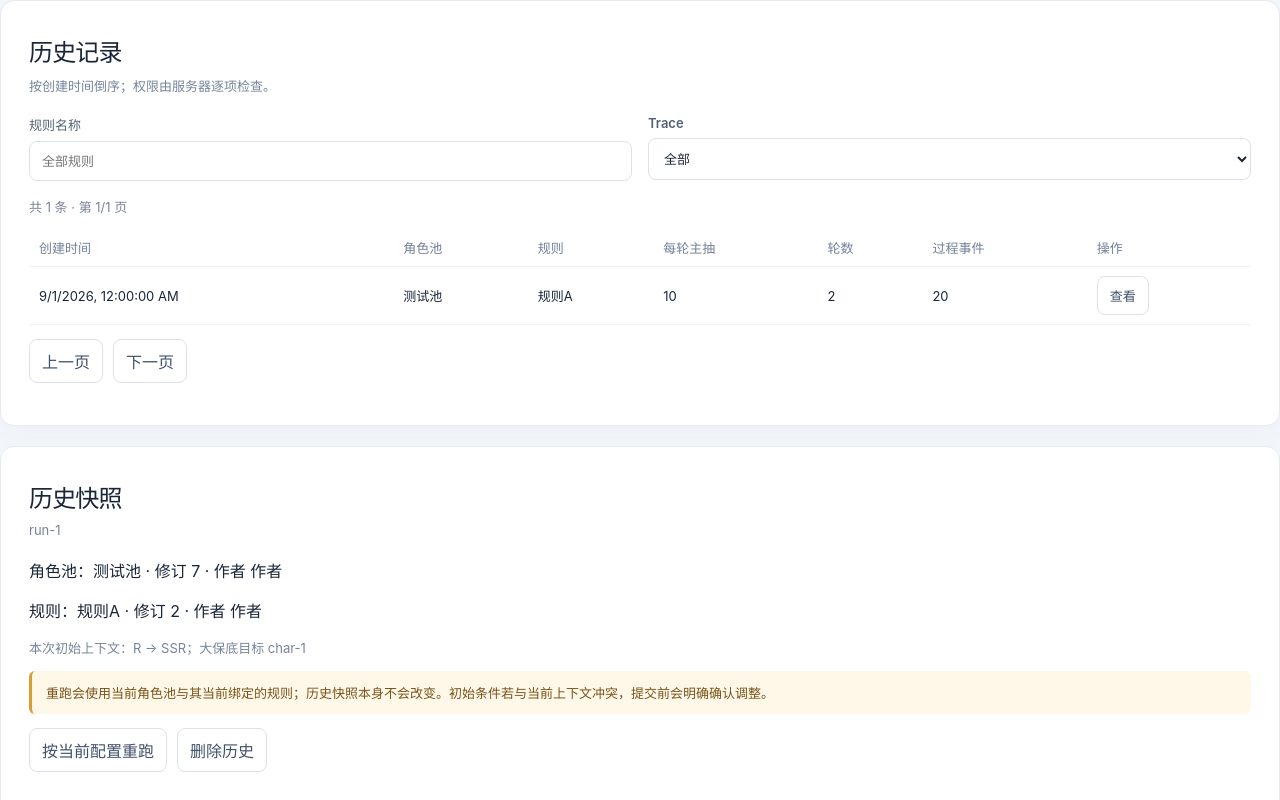
Test: does not delete history before separate confirmation
Click the button "删除历史" at {"x": 222, "y": 750}, box [177,728,267,772]
(page scrolled)
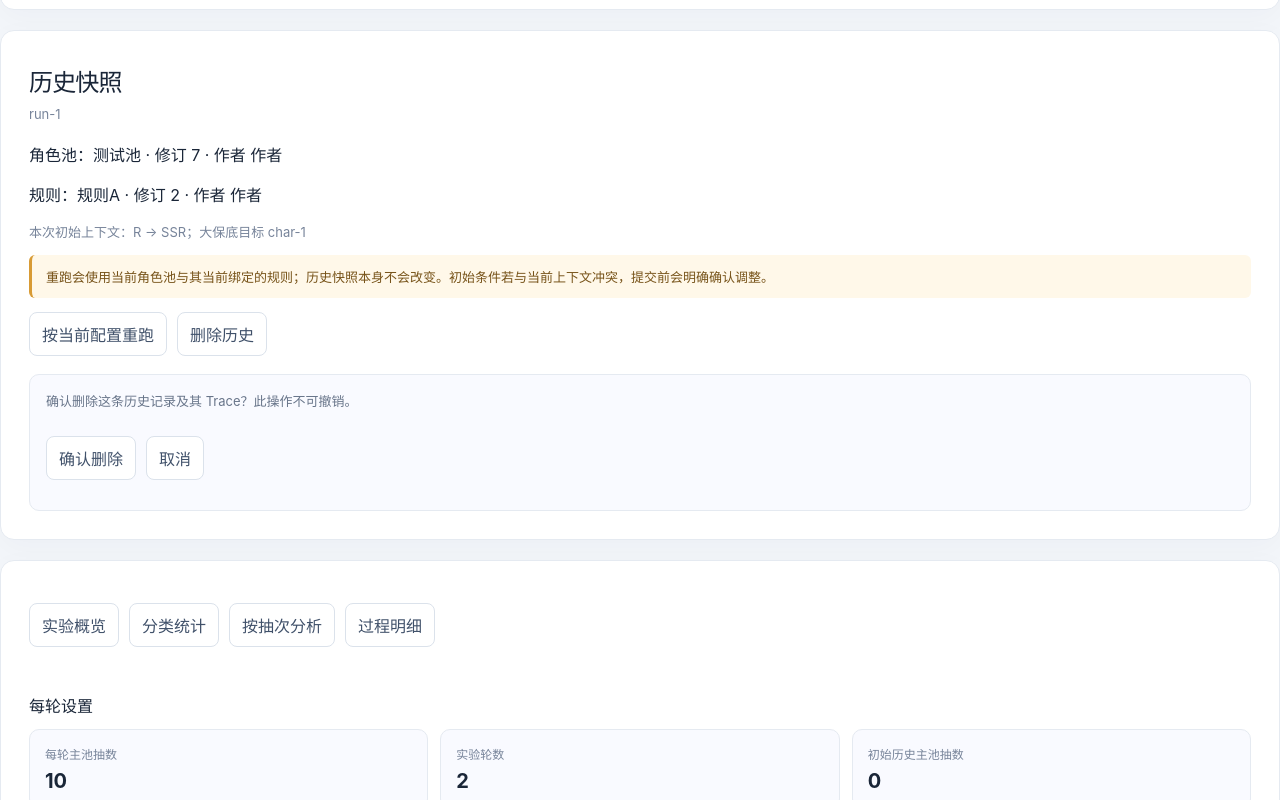
expect the text "确认删除这条历史记录及其 Trace？此操作不可撤销。" is shown: met, box [46,393,358,409]
